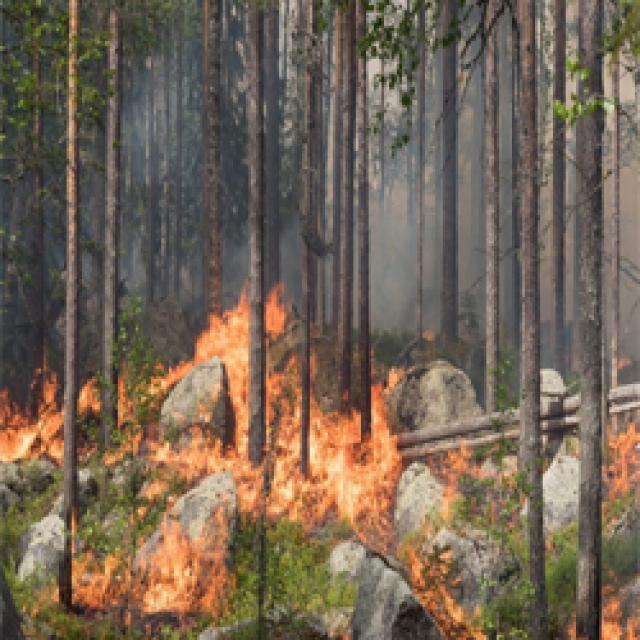Fire: (178, 256, 413, 543), (1, 508, 238, 630), (431, 398, 640, 525), (0, 350, 180, 490), (394, 534, 526, 638), (558, 560, 640, 640)
Smoke: (19, 0, 599, 359)
